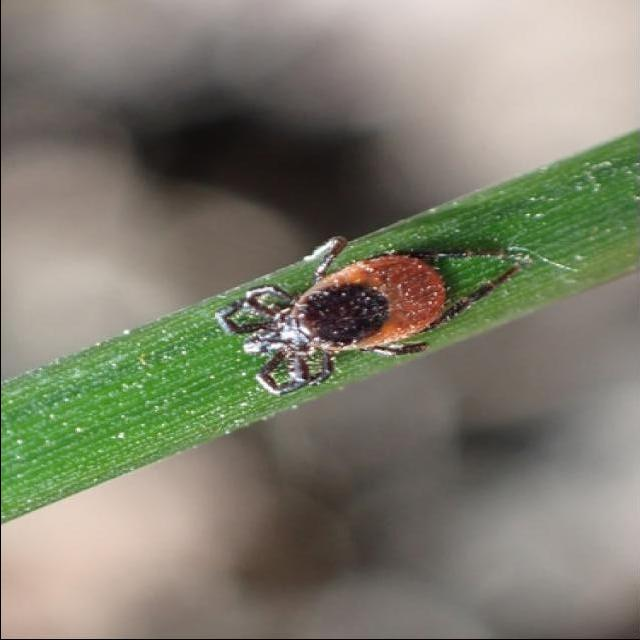Ixodes Ricinus-F: (215, 237, 534, 396)
